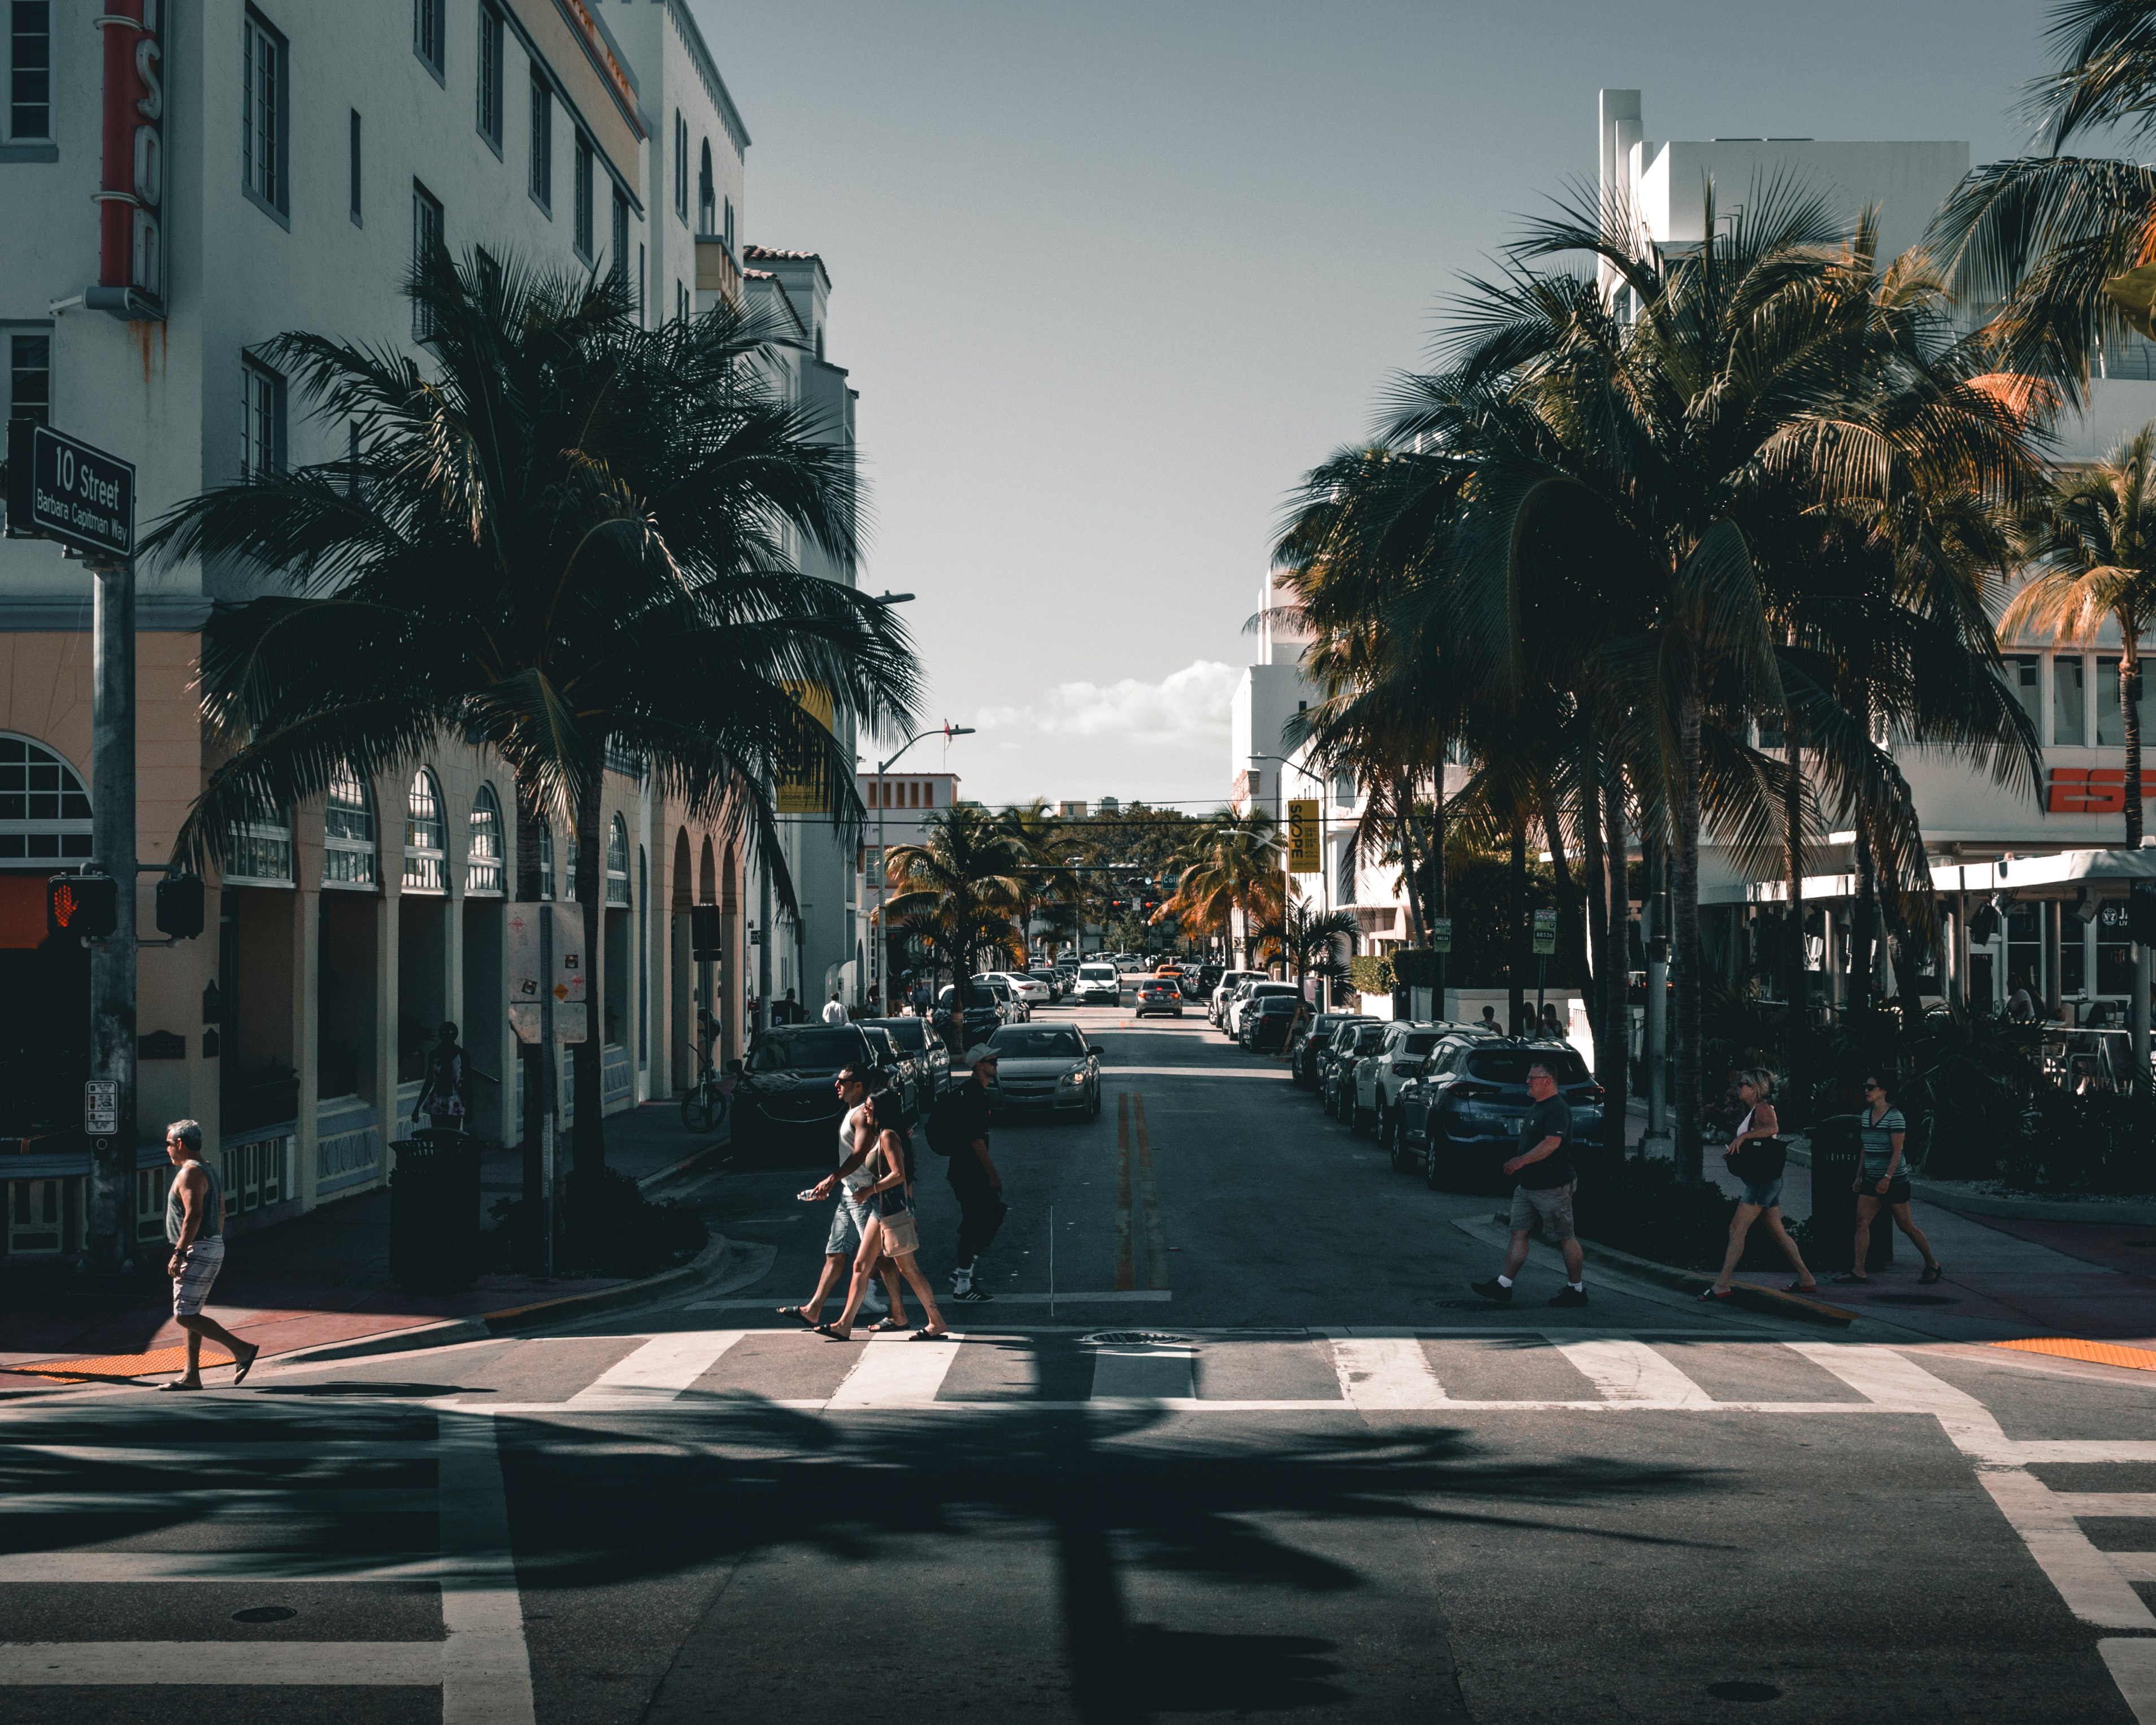tree: (1276, 157, 2061, 1193), (132, 239, 926, 1225)
